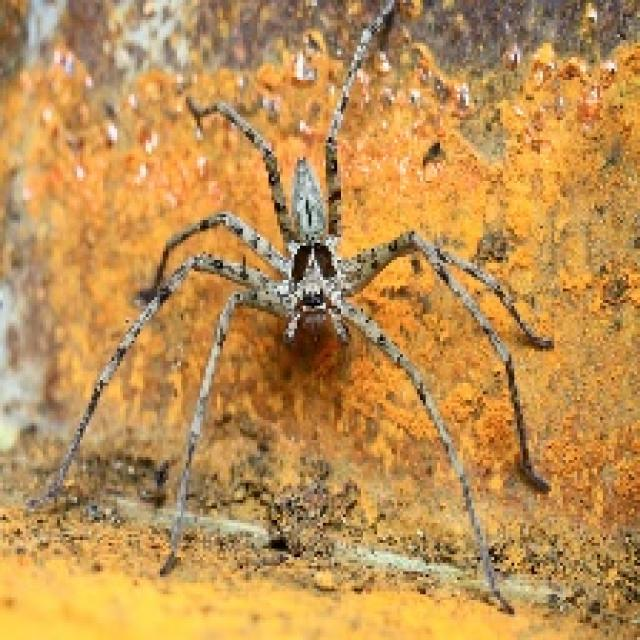Venomous spider: (54, 15, 557, 629)
